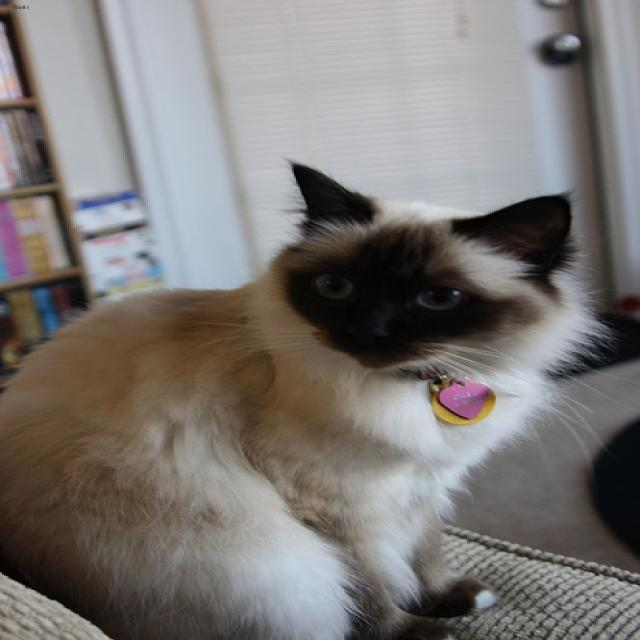cat: (277, 161, 567, 369)
